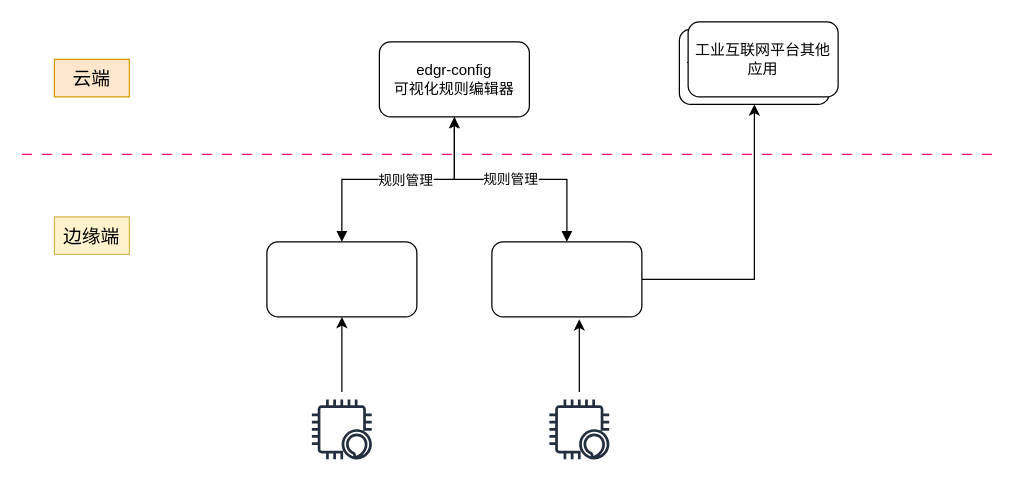
Some shapes in this 1020 by 489 pixel diagram are drawn without their labels. The centre of each missing label's shape, as x and y in pixels:
"节点1: 边缘规则引擎" belongs at point (341, 279).
"节点2: 边缘规则引擎" belongs at point (566, 279).
